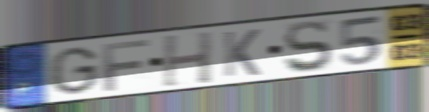5: (338, 13, 384, 67)
F: (100, 37, 152, 93)
G: (47, 46, 101, 97)
H: (161, 29, 214, 89)
K: (221, 27, 262, 79)
S: (282, 19, 335, 75)
